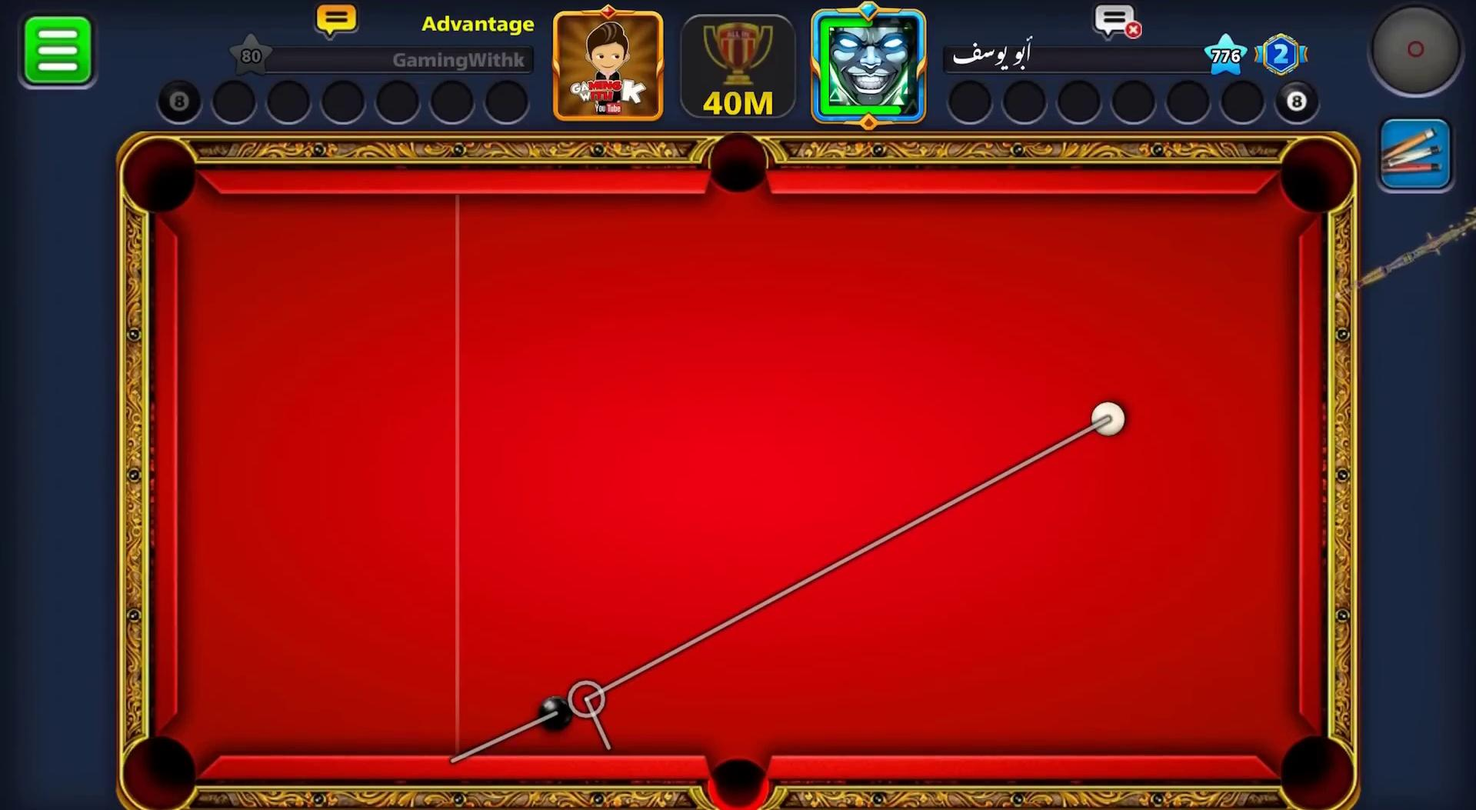Ball: (538, 696, 571, 732)
Guideline: (442, 410, 1112, 773)
Hole: (695, 730, 786, 809), (1278, 136, 1356, 218), (122, 135, 199, 212), (122, 732, 198, 808), (1278, 734, 1355, 809), (706, 131, 769, 195)
Play_Area: (178, 192, 1292, 758)
Spin: (1364, 2, 1470, 102)
White: (1088, 398, 1129, 442)
